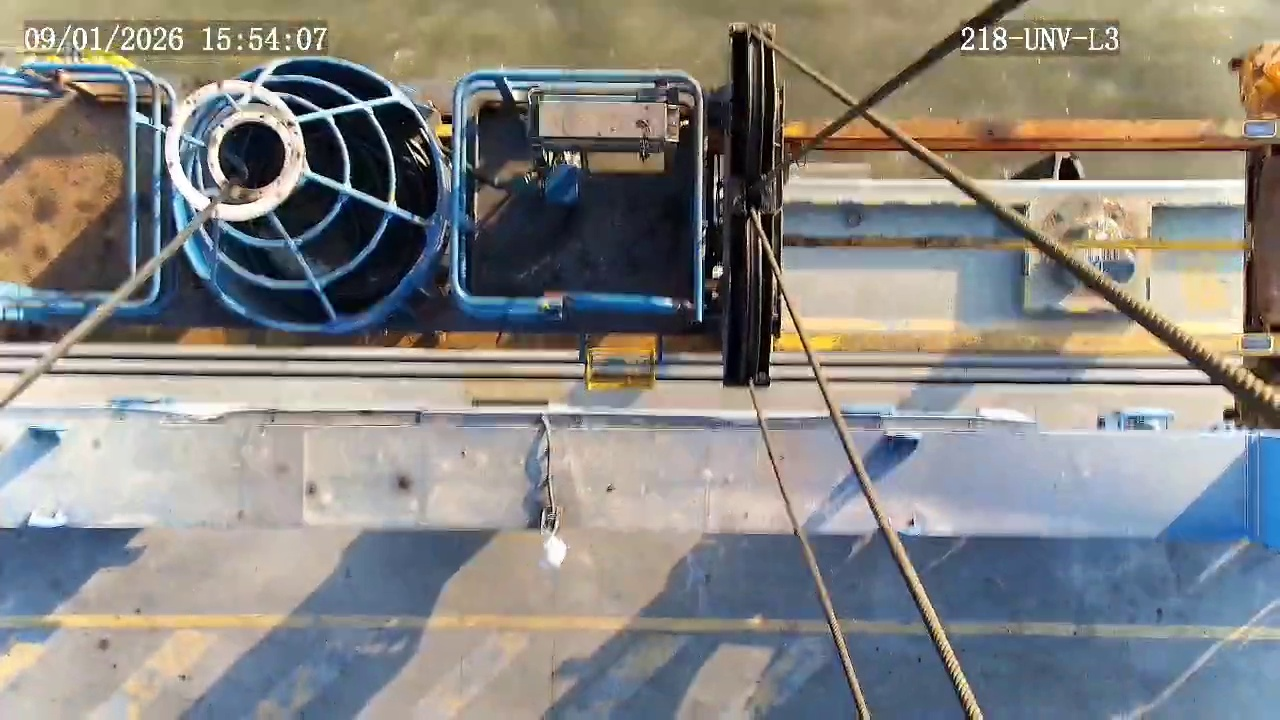right: (175, 58, 441, 329)
